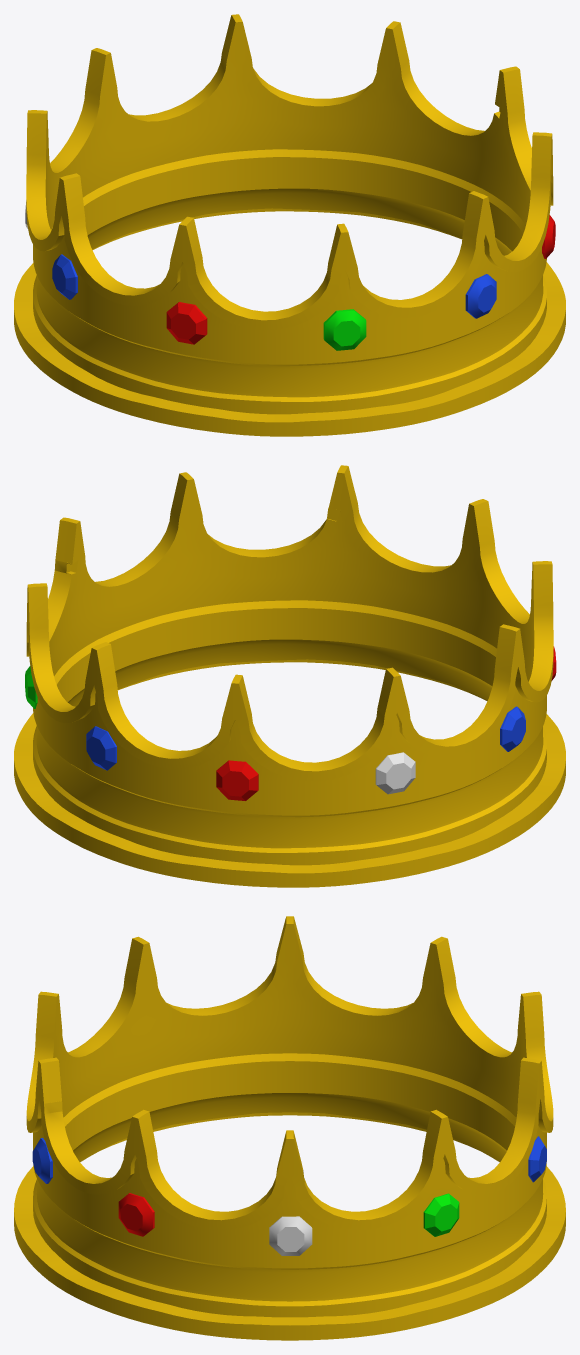
File: crown.fbx
3 views of the same model, one above another, from view 1: azimuth 30°, elevation 25°; view 2: azimuth 150°, elevation 25°; view 3: azimuth 270°, elevation 25° (orthographic).
Visible parts, largest first — view 1: Crown; view 2: Crown; view 3: Crown.
Boxes of the visible parts, x1,y1,x2,y2 form: Crown: (14, 14, 565, 436); Crown: (14, 465, 565, 887); Crown: (14, 916, 565, 1340).
Size of the model in its own units: 860 by 339 by 860.
